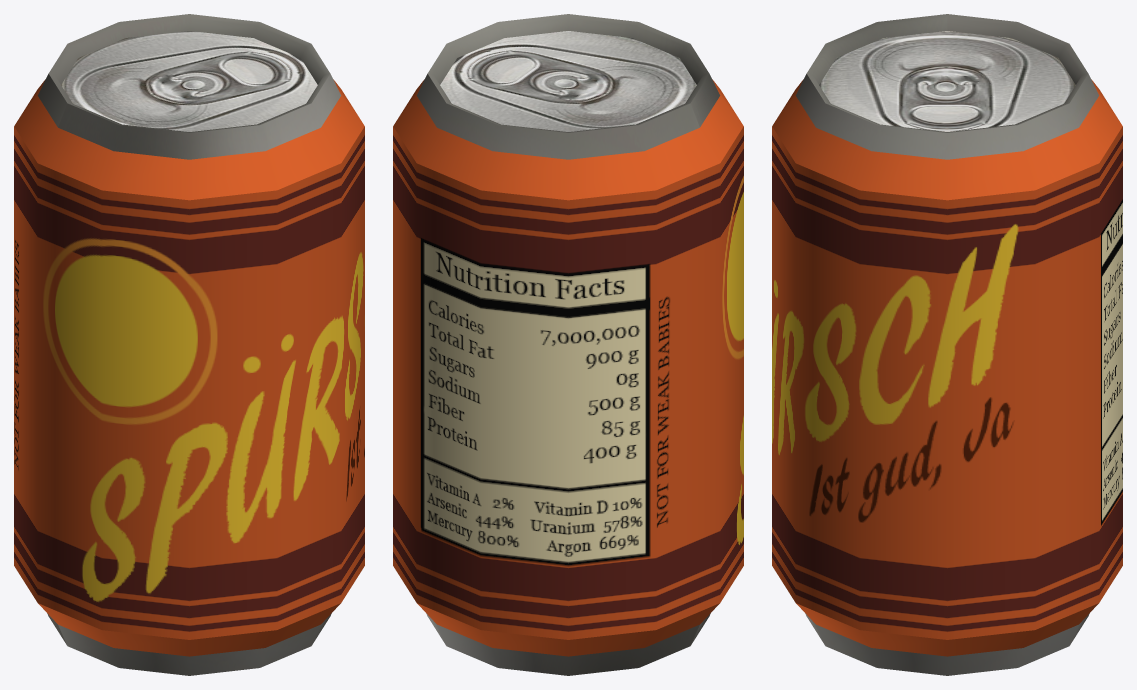
Rendered from SpurschCanFBX.FBX.
3 views of the same model, side by side, from view 1: azimuth 30°, elevation 25°; view 2: azimuth 150°, elevation 25°; view 3: azimuth 270°, elevation 25° (orthographic).
Visible parts, largest first — view 1: SodaCan; view 2: SodaCan; view 3: SodaCan.
Part boxes in pixels (<box>): SodaCan: <box>14,14,364,675</box>; SodaCan: <box>393,14,743,675</box>; SodaCan: <box>772,14,1122,675</box>.
Bounding box in the file's own units: 1.64 × 2.8 × 1.64.
